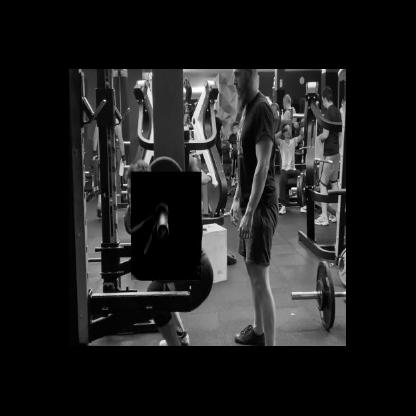barbell: (132, 172, 202, 282)
